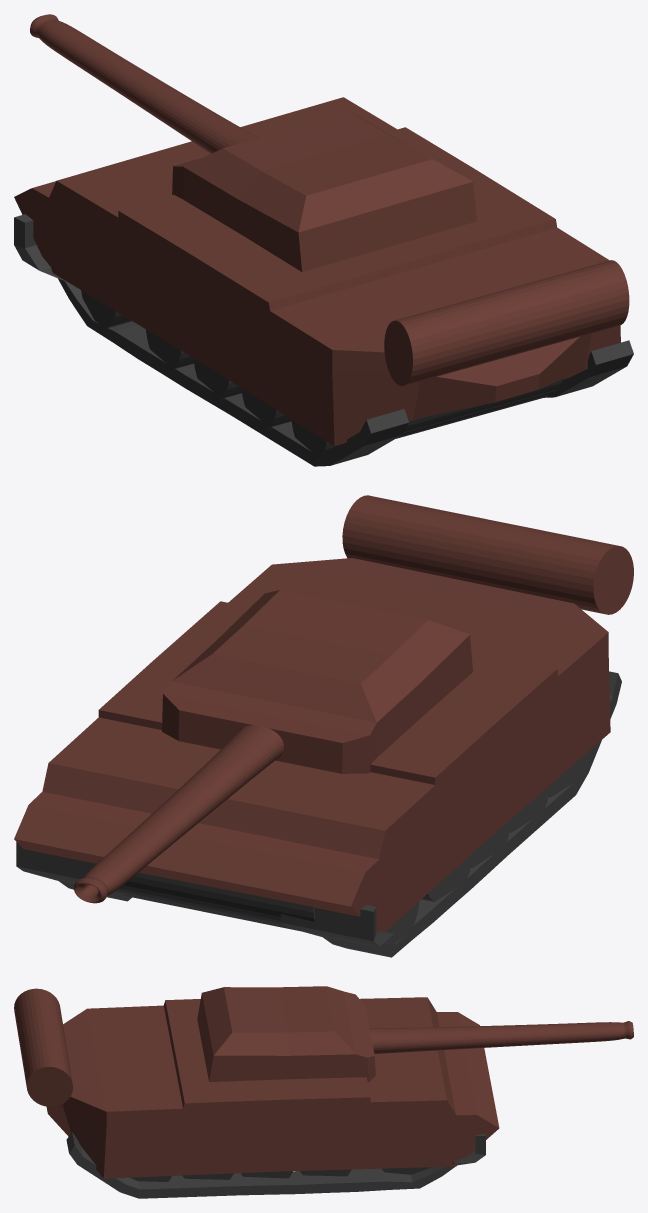
File: Tank.glb
The picture shows the model from 3 angles, top to bottom: view 1: azimuth 30°, elevation 25°; view 2: azimuth 150°, elevation 25°; view 3: azimuth 270°, elevation 25°; orthographic projection. The views are drawn at different scales.
Visible parts, largest first — view 1: Cube; view 2: Cube; view 3: Cube.
Boxes of the visible parts, box(x1,y1,x2,y2) form: Cube: box(14, 14, 633, 466); Cube: box(14, 495, 633, 957); Cube: box(14, 986, 633, 1198).
Bounding box in the file's own units: 1.89 × 1.04 × 4.12.
Materials: 1 (1 with a texture image).
